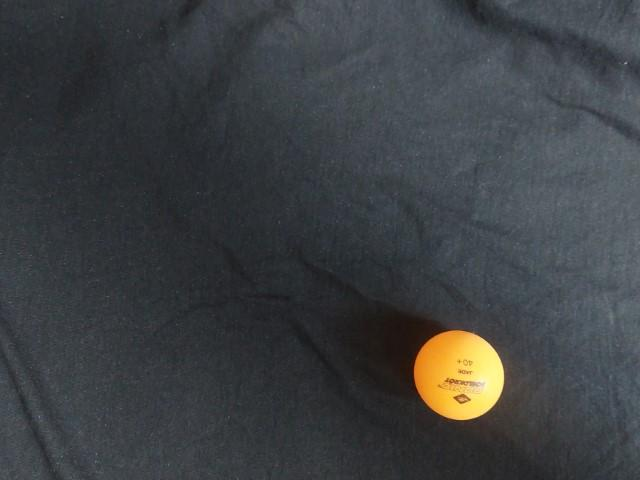oball: (131, 56, 231, 154)
